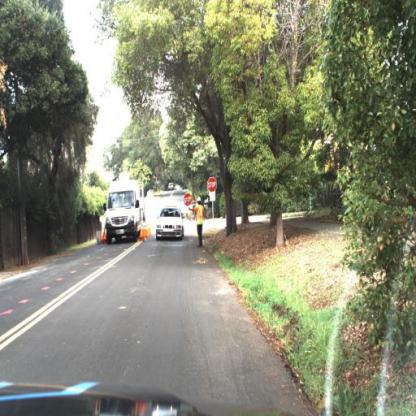car: (106, 171, 148, 243), (154, 206, 185, 242)
pedestrian: (185, 190, 209, 247)
